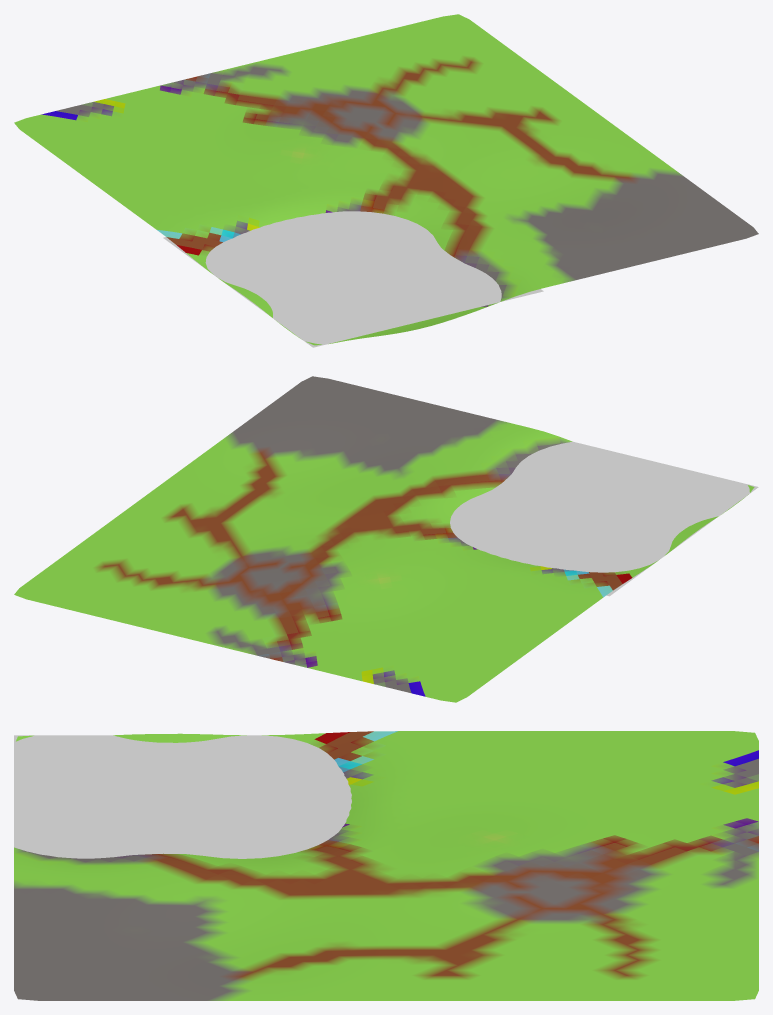
The model's file is floor.fbx.
3 renders of one model, top to bottom at view 1: azimuth 30°, elevation 25°; view 2: azimuth 150°, elevation 25°; view 3: azimuth 270°, elevation 25°, orthographic. The views are drawn at different scales.
Parts seen in each view (by area): view 1: floor; view 2: floor; view 3: floor.
Part boxes in pixels (<box>): floor: <box>14,14,758,347</box>; floor: <box>14,376,758,702</box>; floor: <box>14,731,758,1000</box>.
Bounding box in the file's own units: 85.66 × 3.9 × 100.
